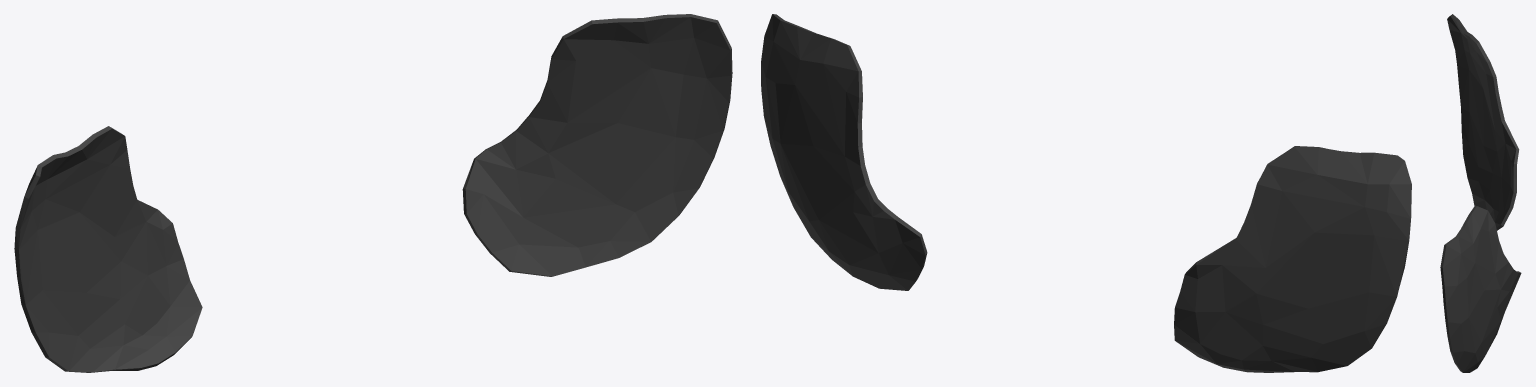
The model's file is c5_caudal_articular_surfaces.glb.
The picture shows the model from 3 angles, left to right: view 1: azimuth 30°, elevation 25°; view 2: azimuth 150°, elevation 25°; view 3: azimuth 270°, elevation 25°; orthographic projection. The views are drawn at different scales.
Visible parts, largest first — view 1: c5_caudal_articular_surfaces; view 2: c5_caudal_articular_surfaces; view 3: c5_caudal_articular_surfaces.
Boxes of the visible parts, x1,y1,x2,y2 form: c5_caudal_articular_surfaces: (14, 14, 732, 372); c5_caudal_articular_surfaces: (761, 14, 1411, 372); c5_caudal_articular_surfaces: (1440, 14, 1521, 372).
Size of the model in its own units: 36.17 by 12.74 by 5.38.
1 material, 1 textured.
